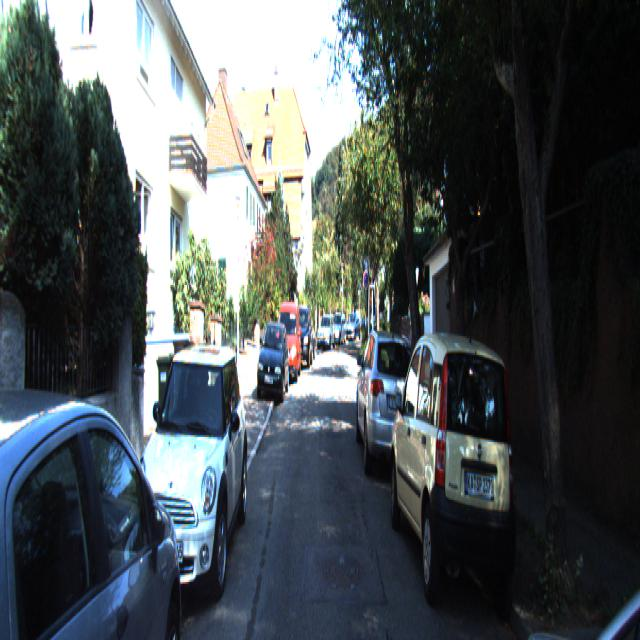Car: (0, 346, 189, 638), (388, 324, 527, 638), (506, 376, 640, 638), (125, 337, 248, 622), (354, 321, 424, 491), (256, 317, 289, 407), (275, 297, 301, 384), (291, 301, 313, 370), (317, 311, 336, 351)
